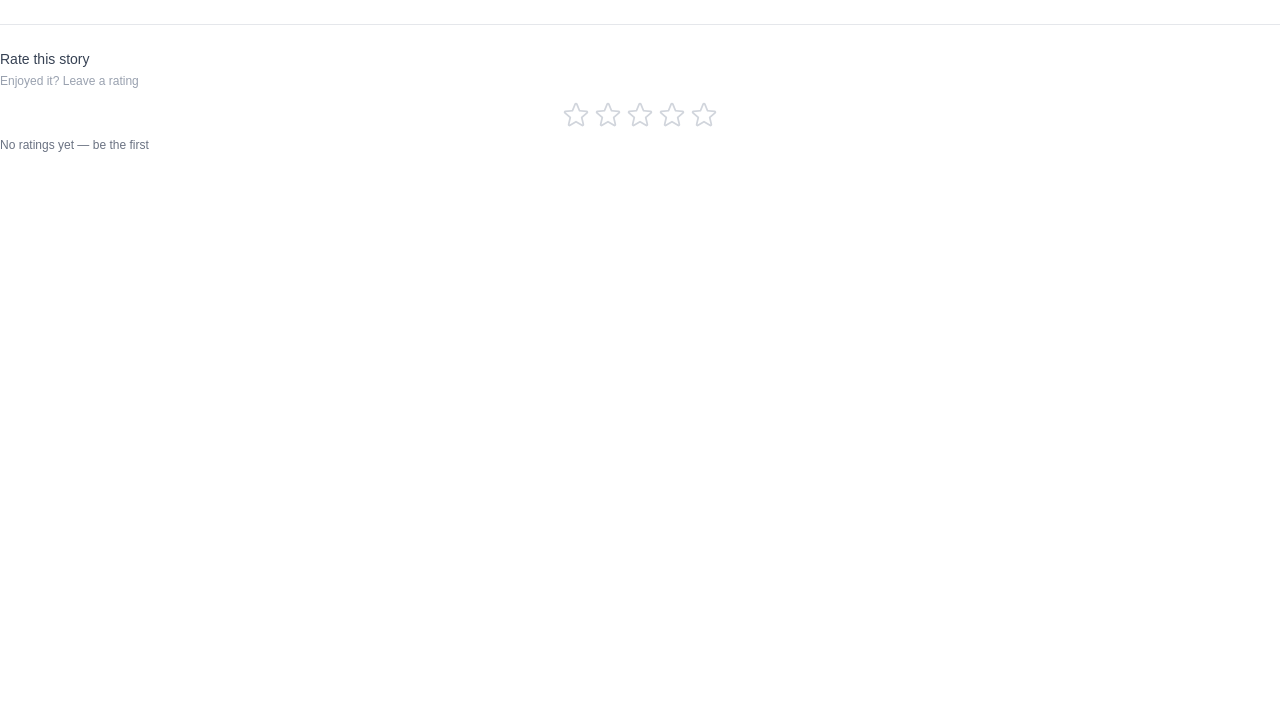
Test: RatingWidget › 提交空评价直接关闭（跳过）
The width and height of the screenshot is (1280, 720).
Click the radio button named "5": x=704, y=115 [690, 101, 718, 129]
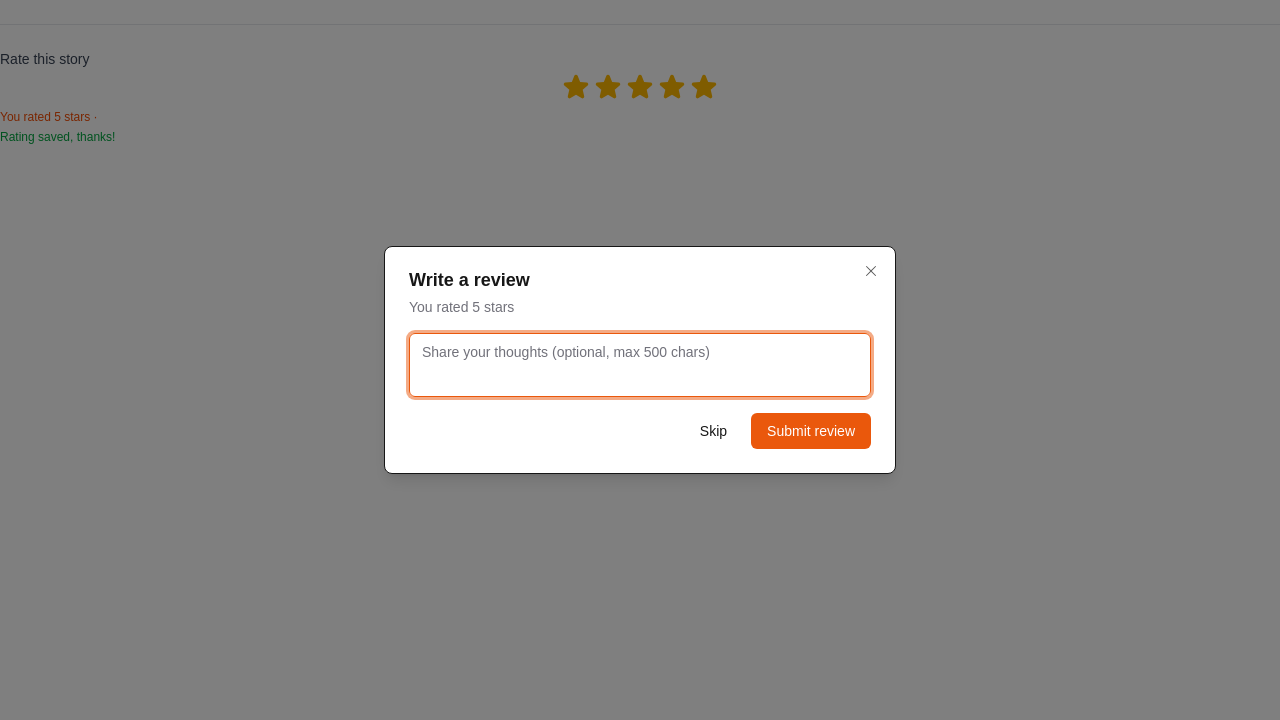
Expected: the dialog is shown, [384, 246, 896, 474]
Click the button "Skip": x=713, y=431 [684, 413, 743, 449]
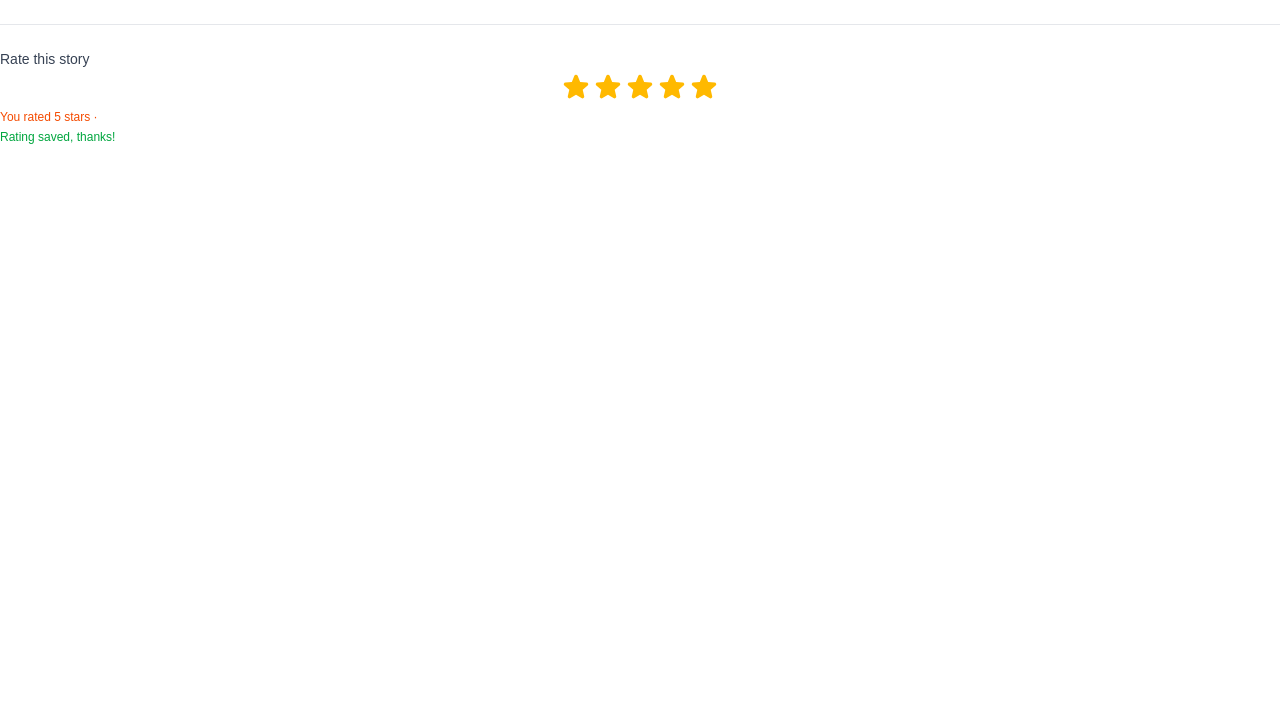
Expected: the dialog is gone
